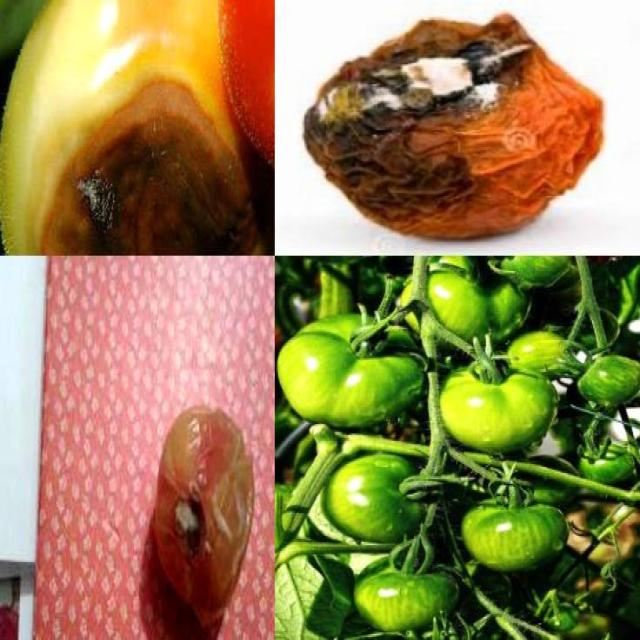Rotten_Tomato: (300, 9, 608, 242), (8, 0, 274, 256), (153, 401, 257, 636)
